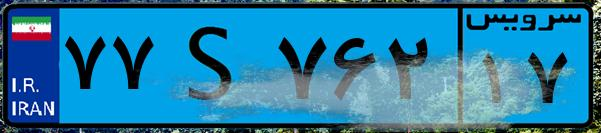1: (475, 38, 525, 113)
2: (385, 28, 445, 110)
6: (330, 28, 385, 110)
7: (270, 28, 330, 110), (57, 26, 110, 100), (525, 38, 570, 115), (110, 28, 158, 98)
S: (158, 12, 270, 120)
